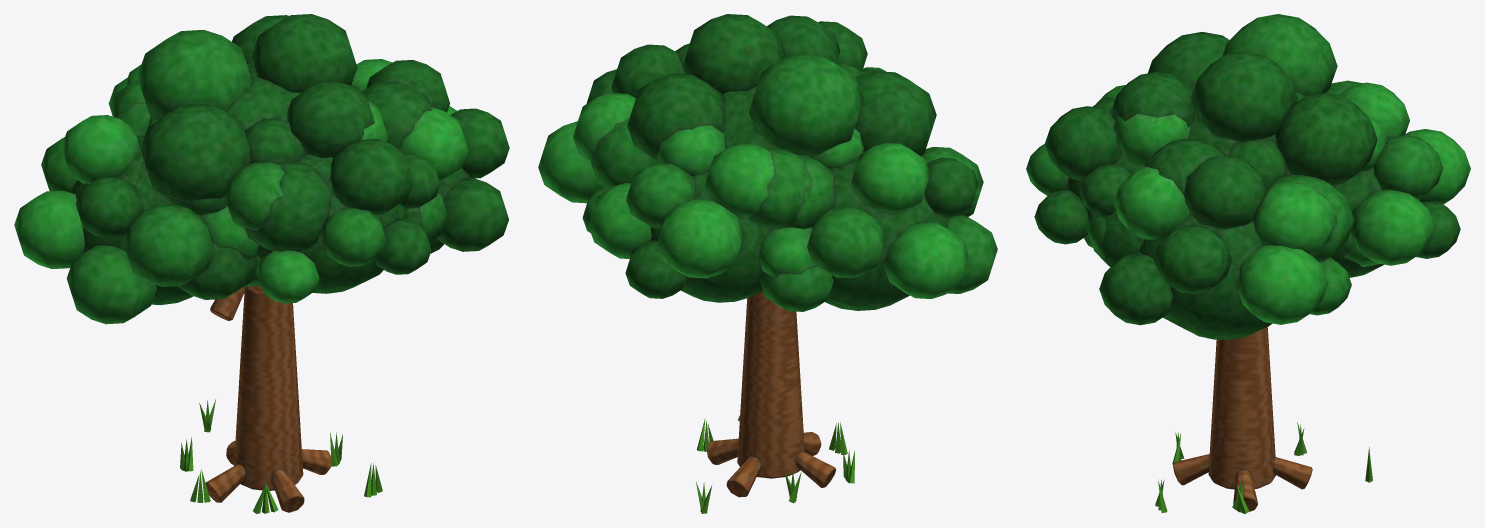
File: mango_tree.glb
The picture shows the model from 3 angles, left to right: view 1: azimuth 30°, elevation 25°; view 2: azimuth 150°, elevation 25°; view 3: azimuth 270°, elevation 25°; orthographic projection. The views are drawn at different scales.
Visible parts, largest first — view 1: crown, mango_tree; view 2: crown, mango_tree; view 3: crown, mango_tree.
Boxes of the visible parts, x1=… form: crown: x1=14, y1=14, x2=509, y2=324; mango_tree: x1=180, y1=285, x2=382, y2=513; crown: x1=538, y1=14, x2=997, y2=311; mango_tree: x1=696, y1=291, x2=854, y2=513; crown: x1=1026, y1=14, x2=1470, y2=339; mango_tree: x1=1155, y1=325, x2=1372, y2=513.
Size of the model in its own units: 1.3 by 1.3 by 1.17.
Materials: 1 (1 with a texture image).
